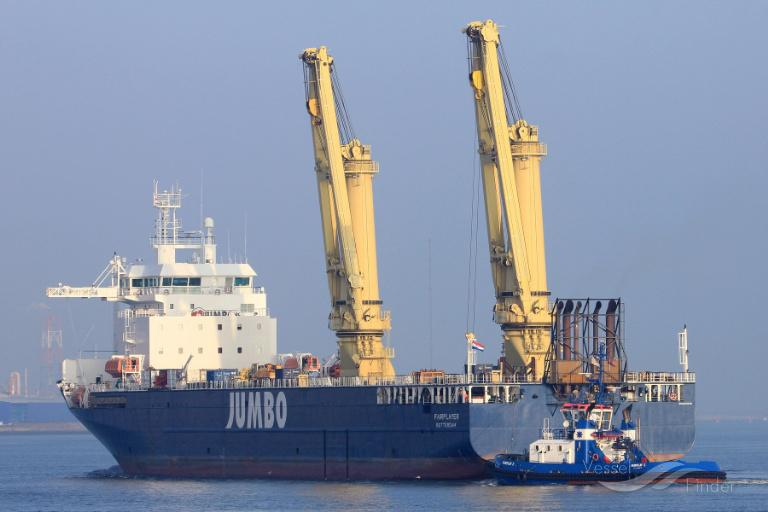OCR: (218, 386, 293, 440), (424, 412, 460, 432)
